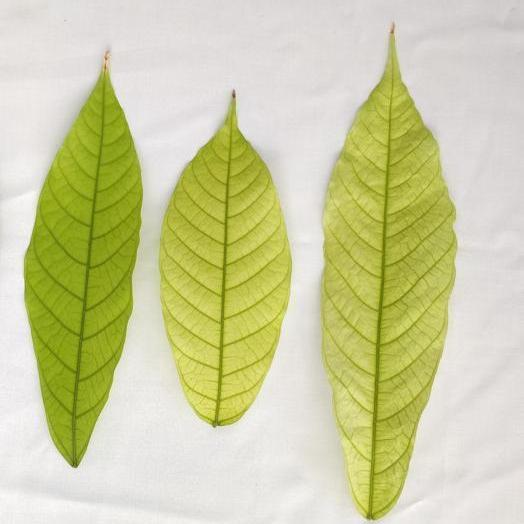Iron: (323, 27, 456, 519), (24, 54, 140, 466), (161, 92, 291, 425)
